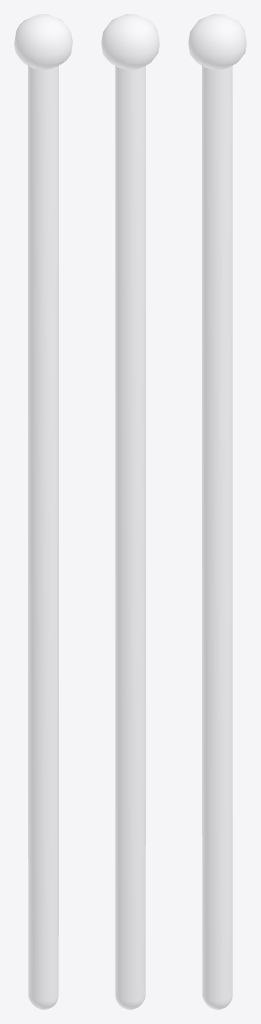
File: 5搅拌棒.glb
3 renders of one model, left to right at view 1: azimuth 30°, elevation 25°; view 2: azimuth 150°, elevation 25°; view 3: azimuth 330°, elevation 25°, orthographic.
Parts seen in each view (by area): view 1: 搅拌棒; view 2: 搅拌棒; view 3: 搅拌棒.
Boxes of the visible parts, left/top/right/bottom form: 搅拌棒: left=14, top=14, right=72, bottom=1009; 搅拌棒: left=101, top=14, right=159, bottom=1009; 搅拌棒: left=188, top=14, right=246, bottom=1009.
Bounding box in the file's own units: 0.0161 × 0.3011 × 0.0161.
Materials: 1 (1 with a texture image).
